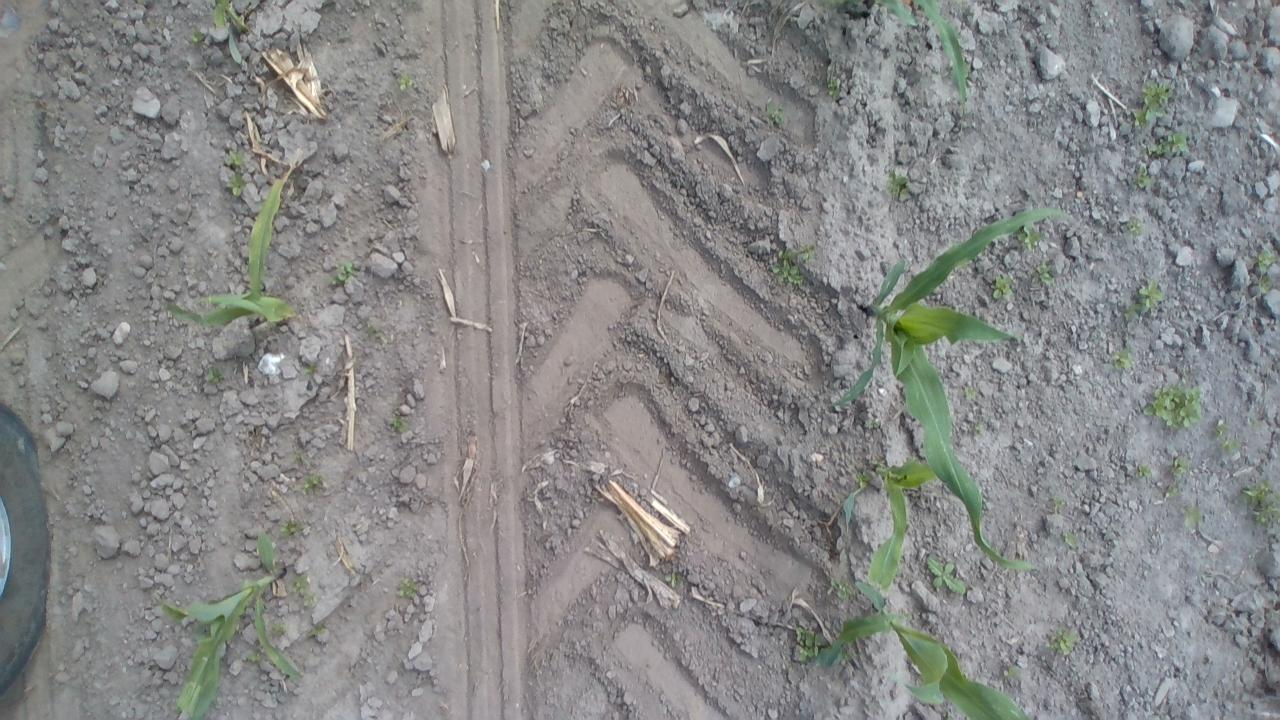Maize: (827, 204, 1083, 574), (806, 575, 1044, 720), (158, 522, 310, 719), (154, 160, 315, 336), (839, 441, 964, 602), (844, 0, 970, 126)
Weeds: (1140, 380, 1204, 432), (766, 240, 816, 290), (1240, 474, 1278, 530), (1133, 76, 1173, 126), (923, 558, 966, 598), (1143, 127, 1192, 160), (208, 0, 252, 36), (794, 623, 829, 664), (221, 144, 247, 199), (1046, 624, 1082, 660), (1132, 278, 1166, 314), (1210, 418, 1242, 454), (1253, 243, 1276, 291), (884, 168, 913, 205), (762, 97, 788, 136), (824, 576, 858, 605), (989, 269, 1017, 303), (326, 260, 361, 287), (1130, 158, 1156, 194), (292, 573, 316, 611), (1107, 344, 1138, 373), (1030, 260, 1058, 288), (366, 322, 393, 350), (1016, 226, 1048, 248), (1120, 213, 1146, 240), (394, 578, 421, 604), (200, 365, 230, 388), (279, 517, 310, 539), (1178, 502, 1204, 528), (1170, 454, 1195, 480), (386, 413, 412, 438), (300, 473, 326, 497), (824, 70, 842, 103), (397, 66, 419, 92), (1048, 494, 1072, 517), (1118, 302, 1144, 323), (306, 620, 328, 644), (266, 619, 290, 640), (286, 446, 312, 465), (662, 568, 684, 590), (1002, 662, 1028, 680), (1060, 528, 1082, 549), (1132, 463, 1156, 482), (303, 358, 323, 380), (1161, 482, 1182, 500), (183, 28, 206, 44), (972, 420, 992, 438), (963, 382, 979, 403), (866, 414, 884, 431)
